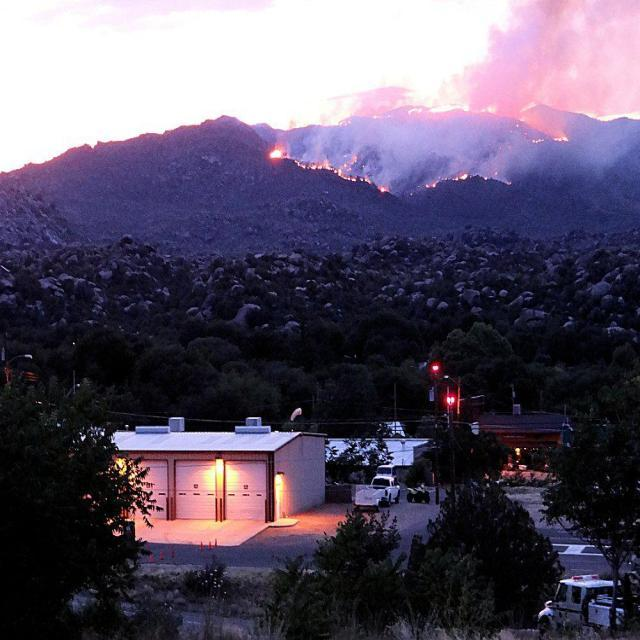Fire: (264, 128, 401, 200), (0, 78, 101, 166), (418, 155, 501, 194), (456, 91, 508, 118), (540, 130, 576, 144)
Smoke: (436, 12, 608, 129)
